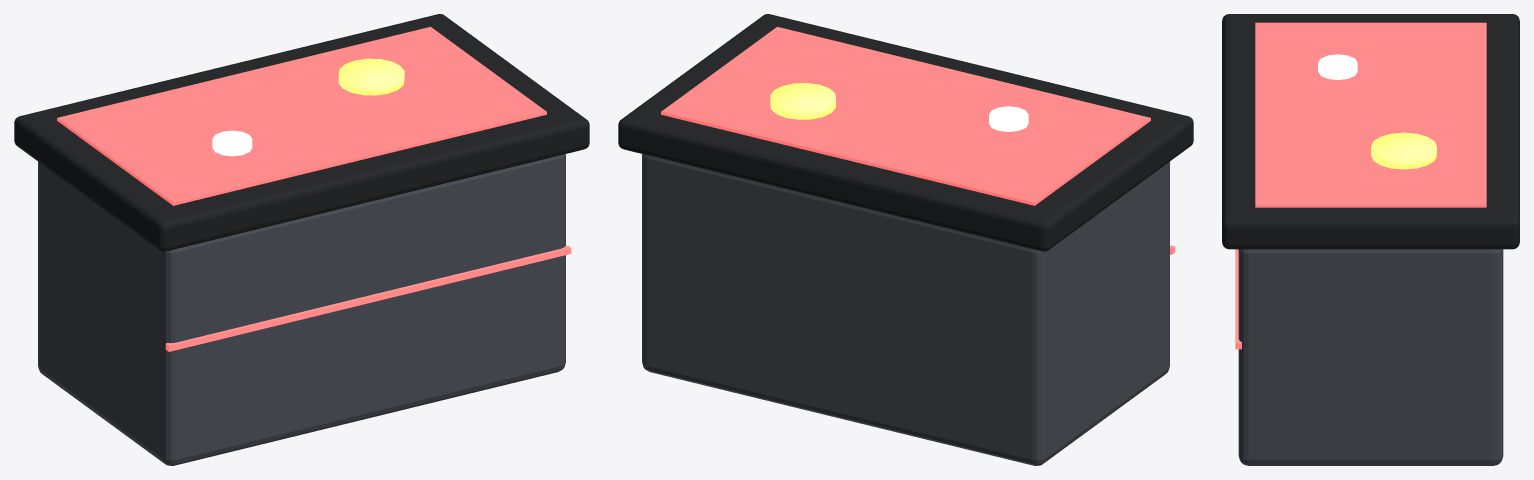
Rendered from command_console_tactical.glb.
The picture shows the model from 3 angles, left to right: view 1: azimuth 30°, elevation 25°; view 2: azimuth 150°, elevation 25°; view 3: azimuth 270°, elevation 25°; orthographic projection.
Visible parts, largest first — view 1: GD_command_console_tactical__m0, GD_command_console_tactical__m2, GD_command_console_tactical__m1, GD_command_console_tactical__m5, GD_command_console_tactical__m3, GD_command_console_tactical__m4; view 2: GD_command_console_tactical__m0, GD_command_console_tactical__m2, GD_command_console_tactical__m1, GD_command_console_tactical__m3, GD_command_console_tactical__m4; view 3: GD_command_console_tactical__m0, GD_command_console_tactical__m2, GD_command_console_tactical__m1, GD_command_console_tactical__m3, GD_command_console_tactical__m4, GD_command_console_tactical__m5.
Boxes of the visible parts, x1=… form: GD_command_console_tactical__m0: x1=38, y1=154, x2=565, y2=465; GD_command_console_tactical__m2: x1=57, y1=26, x2=546, y2=205; GD_command_console_tactical__m1: x1=14, y1=14, x2=589, y2=251; GD_command_console_tactical__m5: x1=165, y1=245, x2=571, y2=351; GD_command_console_tactical__m3: x1=338, y1=58, x2=404, y2=95; GD_command_console_tactical__m4: x1=212, y1=130, x2=252, y2=156; GD_command_console_tactical__m0: x1=642, y1=154, x2=1169, y2=465; GD_command_console_tactical__m2: x1=661, y1=26, x2=1150, y2=205; GD_command_console_tactical__m1: x1=618, y1=14, x2=1193, y2=251; GD_command_console_tactical__m3: x1=770, y1=83, x2=835, y2=119; GD_command_console_tactical__m4: x1=989, y1=106, x2=1028, y2=131; GD_command_console_tactical__m0: x1=1238, y1=249, x2=1503, y2=465; GD_command_console_tactical__m2: x1=1255, y1=22, x2=1486, y2=207; GD_command_console_tactical__m1: x1=1222, y1=14, x2=1519, y2=249; GD_command_console_tactical__m3: x1=1371, y1=132, x2=1436, y2=169; GD_command_console_tactical__m4: x1=1318, y1=54, x2=1357, y2=79; GD_command_console_tactical__m5: x1=1235, y1=249, x2=1241, y2=349.
Bounding box in the file's own units: 1.5 × 0.89 × 0.9.
